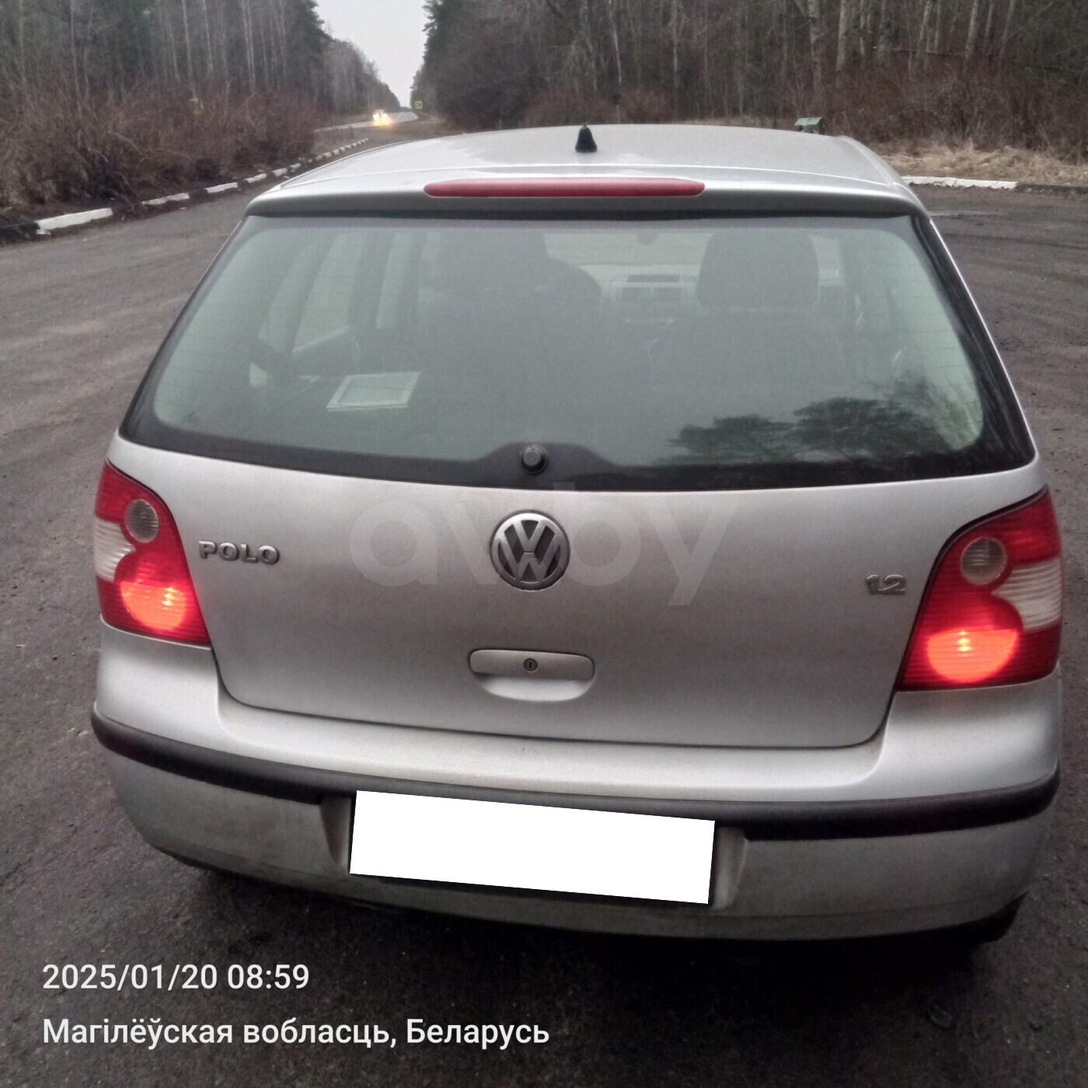Polo_2001-2005: (76, 101, 1072, 968)
